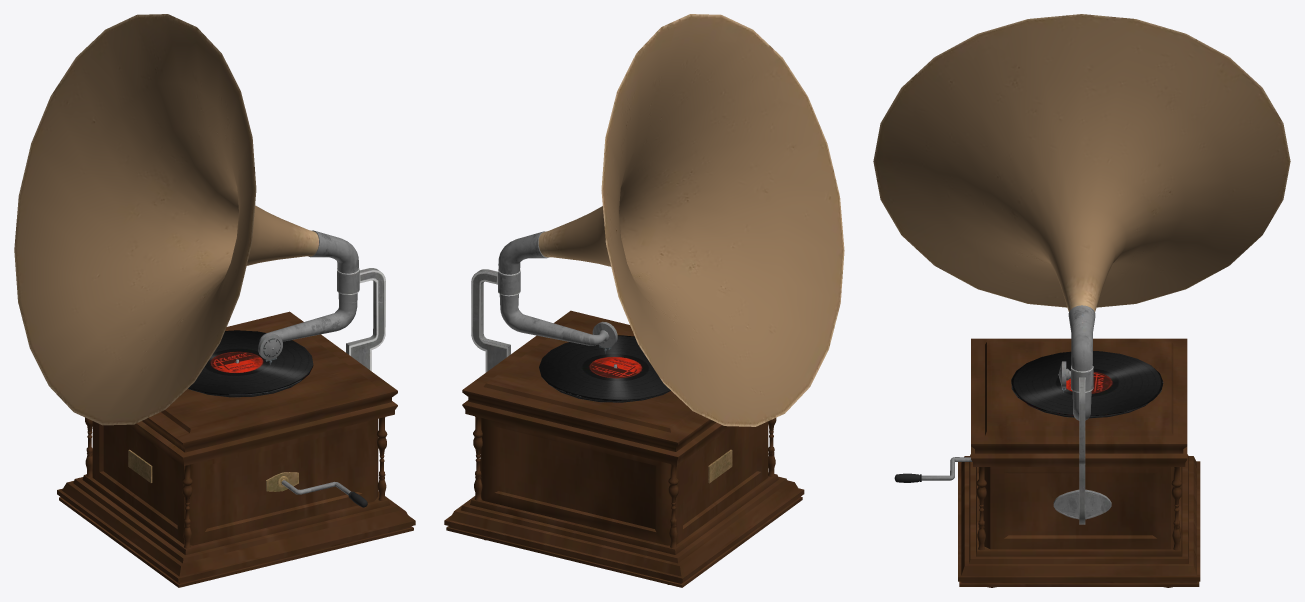
The model's file is gramophone.lod1.glb.
3 renders of one model, left to right at view 1: azimuth 30°, elevation 25°; view 2: azimuth 150°, elevation 25°; view 3: azimuth 270°, elevation 25°, orthographic.
Visible parts, largest first — view 1: Box002; view 2: Box002; view 3: Box002.
Boxes of the visible parts, bbox=[...] form: Box002: bbox=[14, 14, 415, 587]; Box002: bbox=[444, 14, 844, 587]; Box002: bbox=[873, 14, 1290, 587].
Size of the model in its own units: 1.28 by 2 by 1.49.
1 material, 1 textured.
